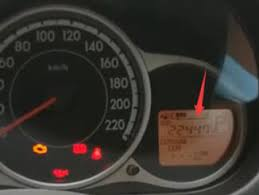Digital_Meter: (159, 119, 258, 132)
